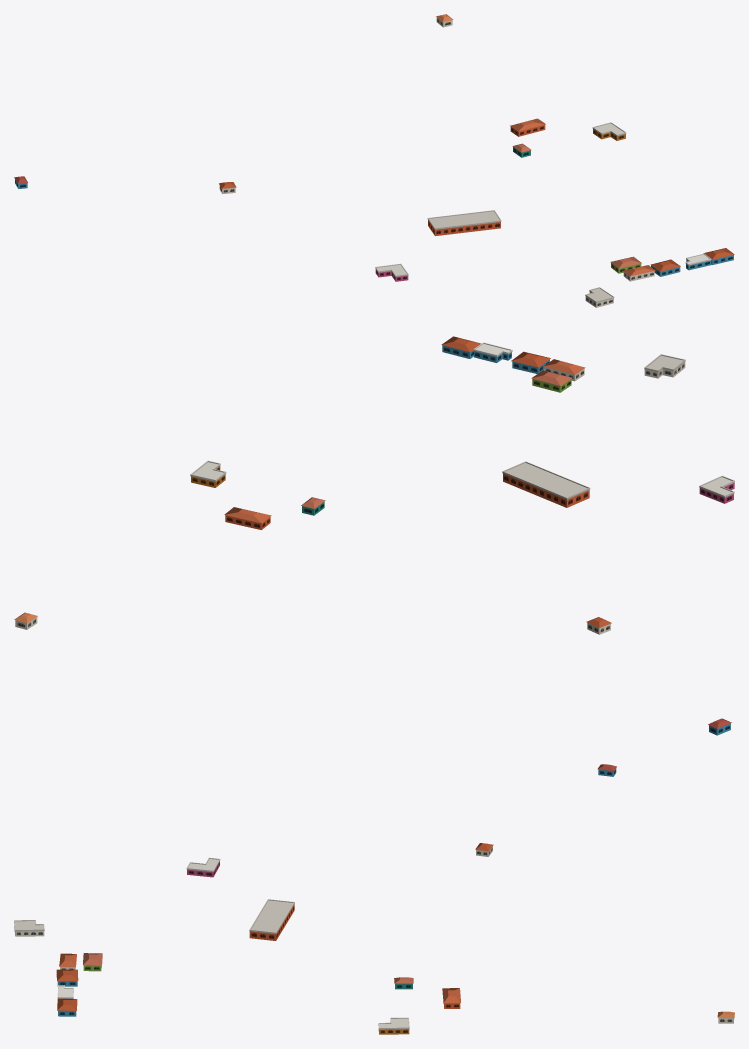
Rendered from msb_noord_m19_m14.glb.
3 renders of one model, top to bottom at view 1: azimuth 30°, elevation 25°; view 2: azimuth 150°, elevation 25°; view 3: azimuth 270°, elevation 25°, orthographic. The views are drawn at different scales.
Parts seen in each view (by area): view 1: msb_noord_m19_m14_lod0; view 2: msb_noord_m19_m14_lod0; view 3: msb_noord_m19_m14_lod0.
Part boxes in pixels (x1,y1,x2,y2): msb_noord_m19_m14_lod0: (14,14,734,307); msb_noord_m19_m14_lod0: (14,336,734,735); msb_noord_m19_m14_lod0: (14,764,734,1034).
Size of what is drawn, in the model's own units: 332 by 8.23 by 379.
Materials: 3 (1 with a texture image).
